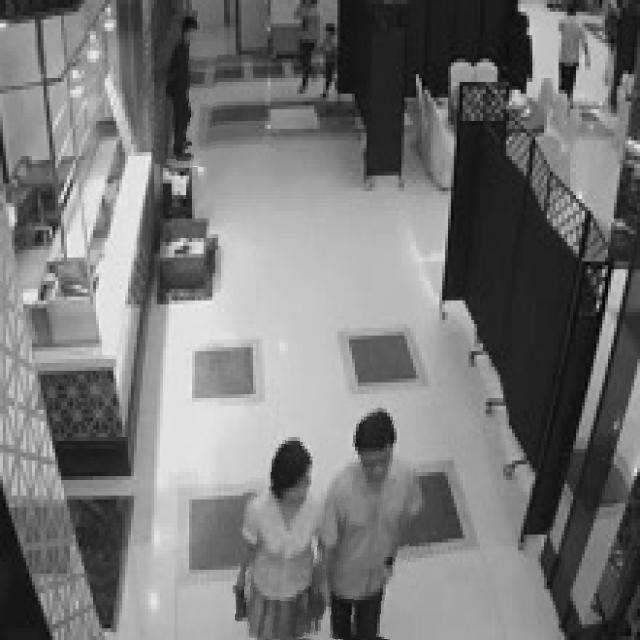Normal: (326, 400, 412, 640), (237, 418, 327, 640), (154, 8, 217, 167)
